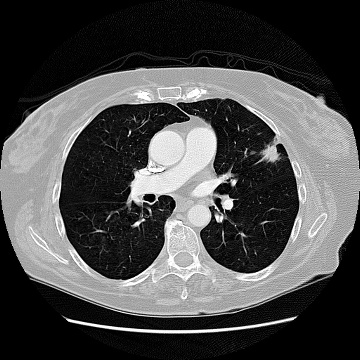PN: (263, 143, 281, 161)
